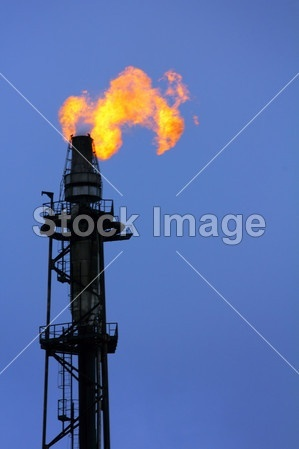fire: (57, 64, 192, 161)
